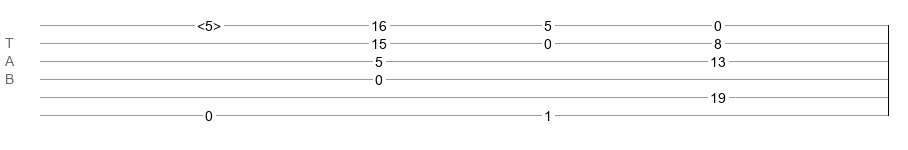0: (205, 108, 213, 118), (375, 72, 383, 82), (544, 36, 552, 46), (714, 18, 722, 28)
1: (544, 108, 552, 118)
13: (710, 54, 726, 64)
15: (371, 36, 387, 46)
16: (371, 18, 387, 28)
19: (710, 90, 726, 100)
5: (375, 54, 383, 64), (544, 18, 552, 28)
8: (714, 36, 722, 46)
harmonic: (197, 18, 221, 28)
